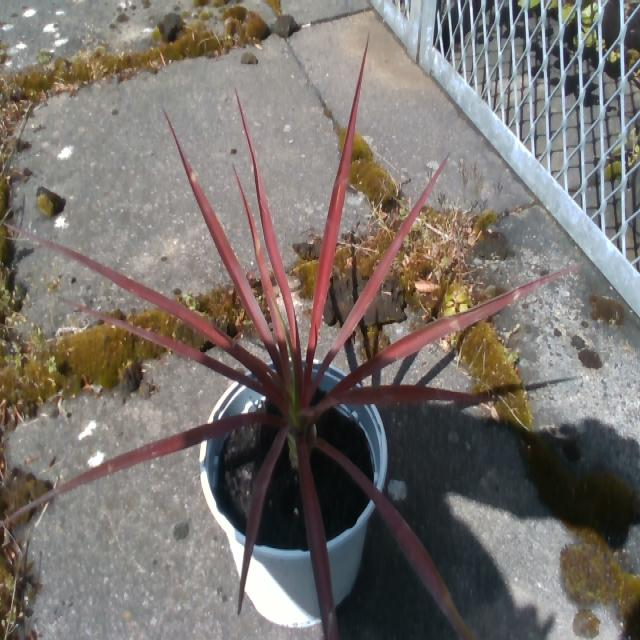Yucca-aloifolia: (25, 232, 275, 389), (329, 265, 577, 397), (315, 440, 475, 639), (1, 413, 283, 525), (165, 112, 275, 359), (320, 159, 445, 372), (306, 40, 367, 364), (236, 92, 300, 380), (91, 312, 264, 389), (234, 167, 287, 369), (238, 429, 288, 613), (297, 436, 338, 639), (303, 385, 489, 416)
